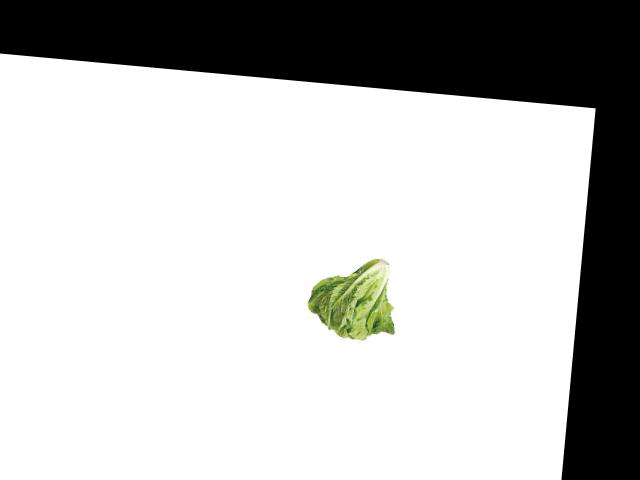lettuce: (303, 247, 403, 346)
